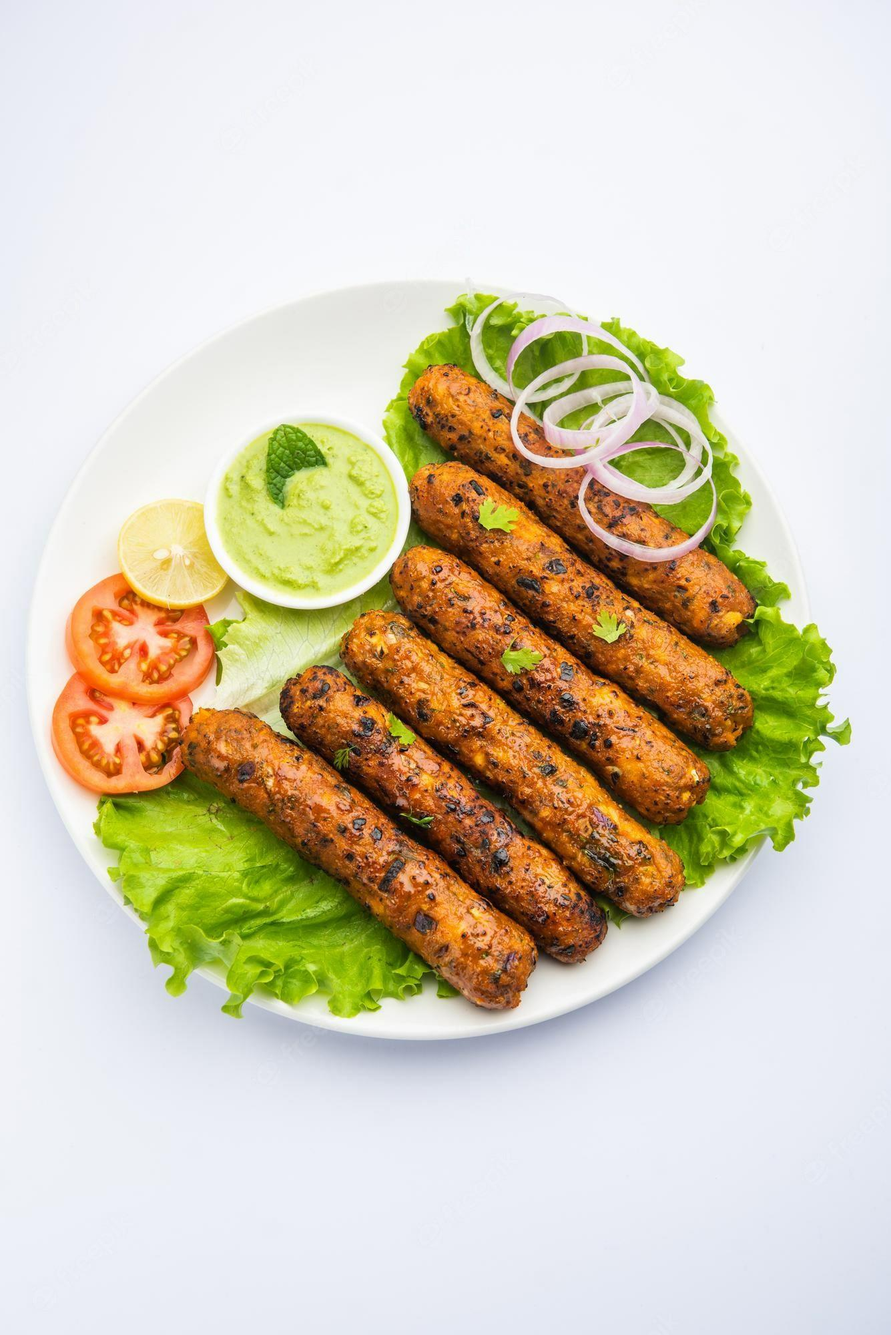GreenChutney: (214, 425, 398, 598)
Kebab: (184, 709, 538, 1011), (340, 612, 684, 919), (409, 461, 753, 756), (405, 365, 755, 650), (280, 663, 609, 962), (388, 545, 712, 828)
